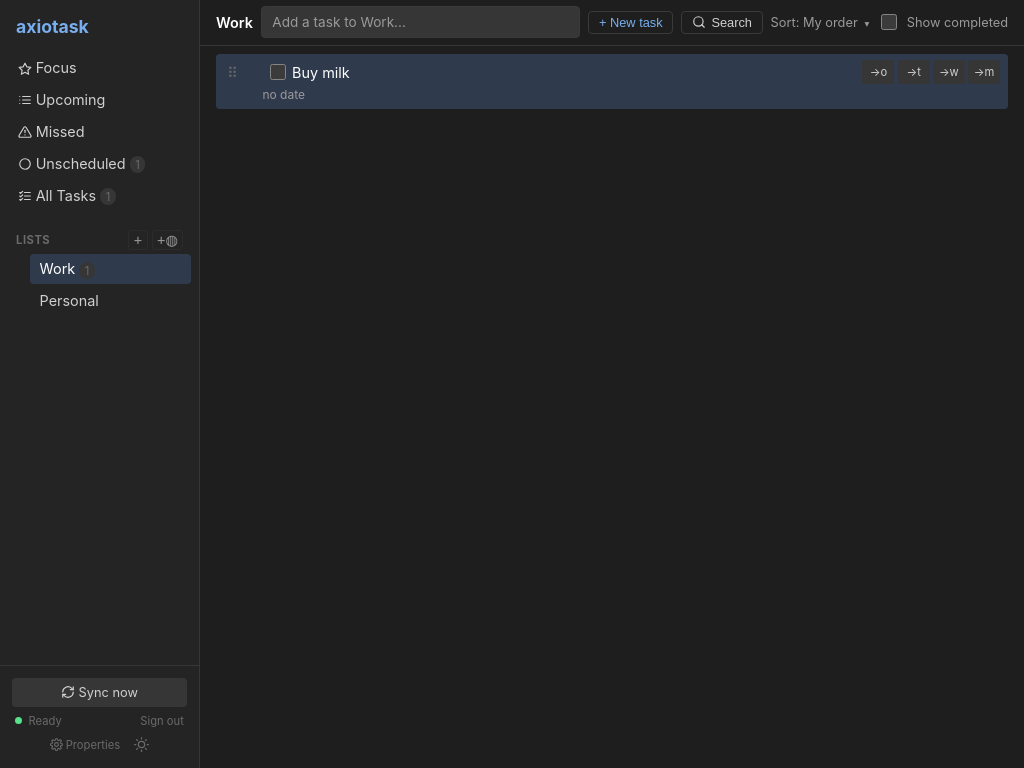
Test: GH#17: Search overlay › opens from the toolbar search button for touch users
This screenshot has width=1024, height=768.
Expected: the text "Buy milk" is shown, left=292, top=64, right=350, bottom=81
Click the button "Search" at point(722, 22), box left=681, top=11, right=762, bottom=34
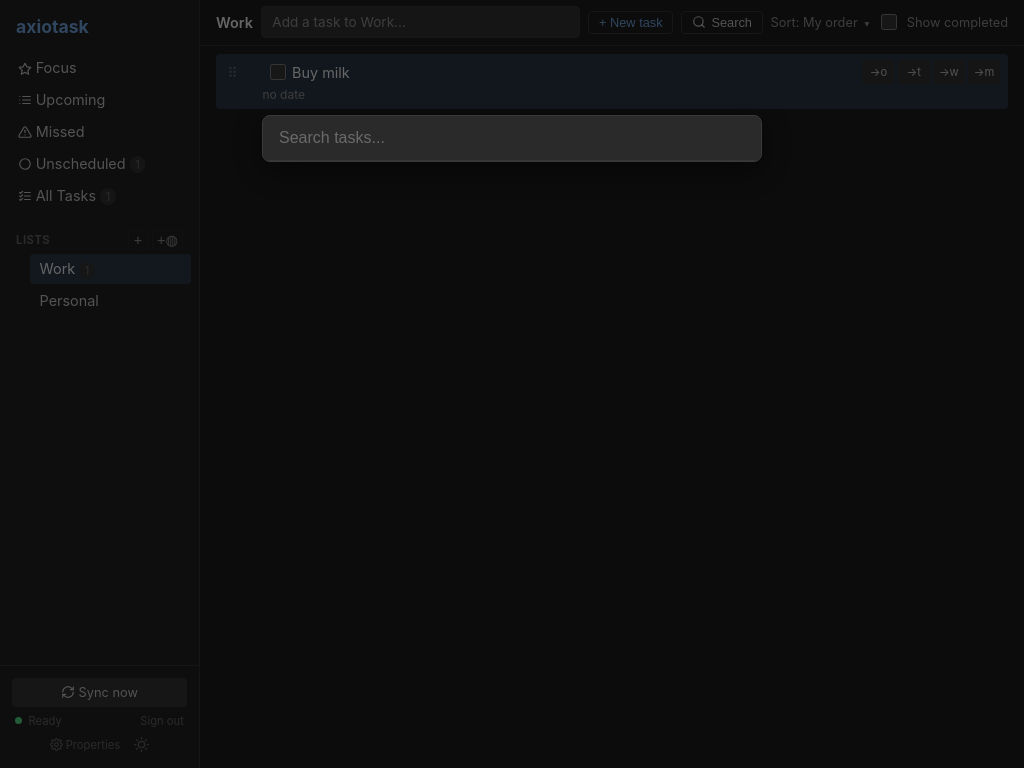
Result: the field with placeholder "Search tasks..." is shown at left=263, top=116, right=761, bottom=161
